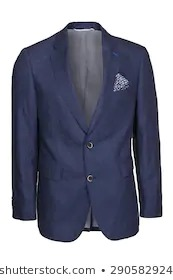F_M_suit jacket: (8, 20, 167, 243)
